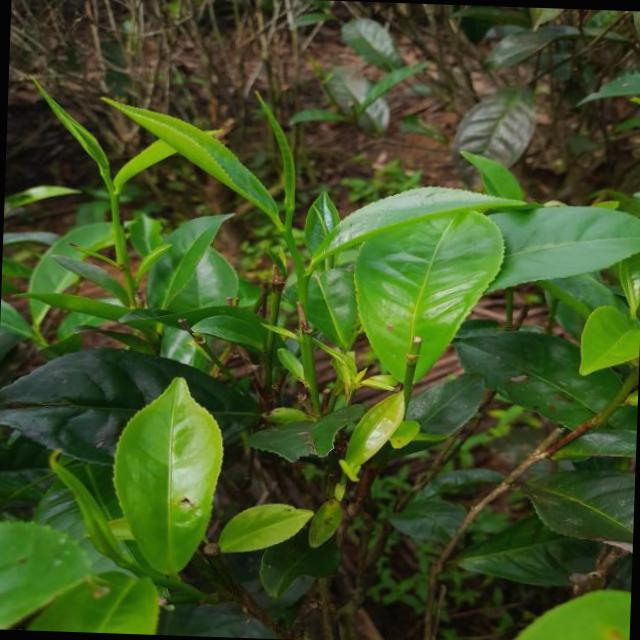Stem: (280, 228, 293, 241), (110, 193, 119, 203)
